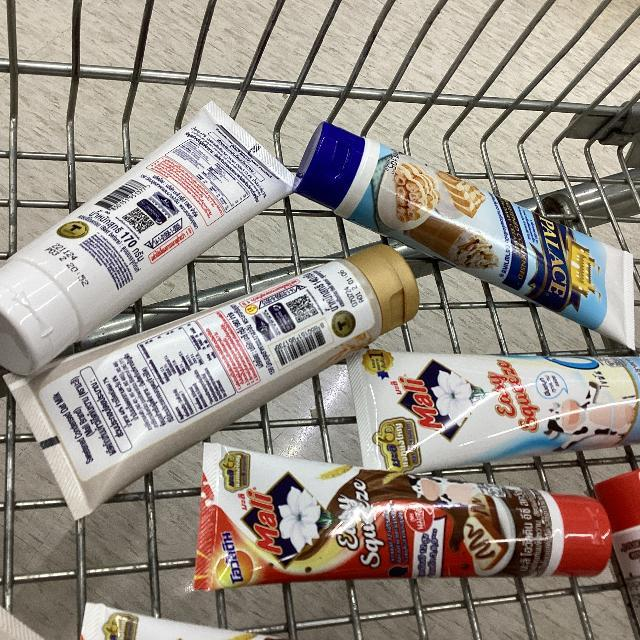Squeeze Tube: (0, 39, 640, 601)
